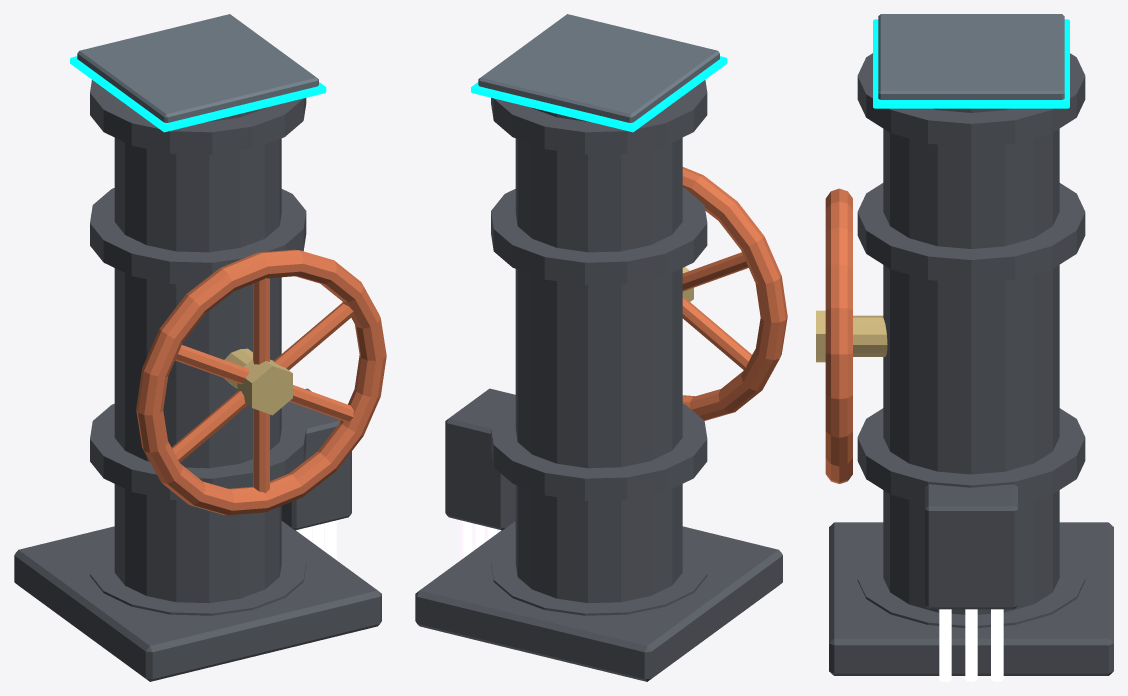
File: prop_valvula_mestra_thermatek.glb
3 renders of one model, left to right at view 1: azimuth 30°, elevation 25°; view 2: azimuth 150°, elevation 25°; view 3: azimuth 270°, elevation 25°, orthographic. The views are drawn at different scales.
Parts seen in each view (by area): view 1: Pipe_Column, Base_Plinth, Wheel_Rim, Phantom_TopNumberPlate, Flange_1.68, Flange_2.26, Flange_0.72, Flange_0.12, Cipher_JunctionBox, Wheel_Spoke_1.0, Wheel_Spoke_0.0, Phantom_TopBorder (+2 smaller); view 2: Pipe_Column, Base_Plinth, Phantom_TopNumberPlate, Flange_1.68, Flange_0.72, Wheel_Rim, Cipher_JunctionBox, Flange_2.26, Flange_0.12, Phantom_TopBorder, Wheel_Spoke_1.0, Wheel_Spoke_2.1; view 3: Pipe_Column, Base_Plinth, Phantom_TopNumberPlate, Cipher_JunctionBox, Flange_1.68, Wheel_Rim, Flange_0.72, Flange_2.26, Flange_0.12, Phantom_TopBorder, Valve_Stem, Cipher_Cable_1 (+3 smaller).
Boxes of the visible parts, x1,y1,x2,y2 form: Pipe_Column: [114, 103, 281, 603]; Base_Plinth: [14, 521, 381, 681]; Wheel_Rim: [136, 249, 386, 515]; Phantom_TopNumberPlate: [77, 14, 318, 122]; Flange_1.68: [90, 188, 306, 284]; Flange_2.26: [90, 80, 306, 154]; Flange_0.72: [90, 404, 306, 500]; Flange_0.12: [90, 538, 306, 615]; Cipher_JunctionBox: [281, 388, 351, 530]; Wheel_Spoke_1.0: [171, 302, 353, 462]; Wheel_Spoke_0.0: [253, 278, 269, 493]; Phantom_TopBorder: [70, 56, 326, 132]; Pipe_Column: [515, 103, 682, 603]; Base_Plinth: [415, 521, 782, 681]; Phantom_TopNumberPlate: [478, 14, 719, 122]; Flange_1.68: [491, 188, 707, 285]; Flange_0.72: [491, 404, 707, 500]; Wheel_Rim: [682, 167, 787, 420]; Cipher_JunctionBox: [445, 388, 515, 530]; Flange_2.26: [491, 80, 707, 154]; Flange_0.12: [491, 539, 707, 615]; Phantom_TopBorder: [471, 56, 727, 132]; Wheel_Spoke_1.0: [682, 298, 751, 369]; Wheel_Spoke_2.1: [682, 252, 748, 291]; Pipe_Column: [883, 108, 1059, 614]; Base_Plinth: [829, 522, 1113, 675]; Phantom_TopNumberPlate: [878, 14, 1064, 99]; Cipher_JunctionBox: [925, 484, 1017, 609]; Flange_1.68: [857, 183, 1085, 283]; Wheel_Rim: [825, 188, 852, 483]; Flange_0.72: [857, 408, 1085, 504]; Flange_2.26: [857, 53, 1085, 147]; Flange_0.12: [857, 549, 1085, 627]; Phantom_TopBorder: [873, 19, 1069, 108]; Valve_Stem: [853, 315, 887, 356]; Cipher_Cable_1: [939, 609, 951, 681].
Bounding box in the file's own units: 1.19 × 2.41 × 1.15.
